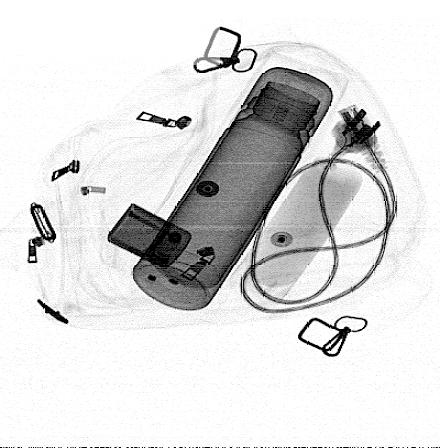Lighter: (107, 202, 192, 269)
